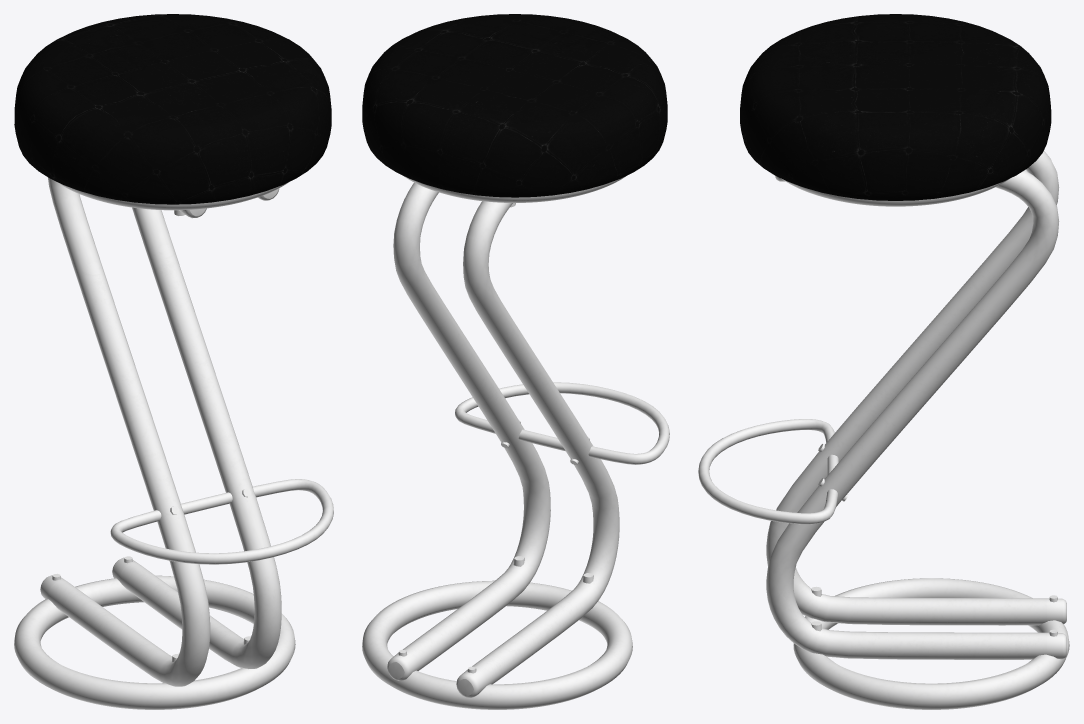
3 views of the same model, side by side, from view 1: azimuth 30°, elevation 25°; view 2: azimuth 150°, elevation 25°; view 3: azimuth 270°, elevation 25° (orthographic). The views are drawn at different scales.
Visible parts, largest first — view 1: Bar_Chair; view 2: Bar_Chair; view 3: Bar_Chair.
Boxes of the visible parts, left/top/right/bottom form: Bar_Chair: left=14, top=14, right=333, bottom=709; Bar_Chair: left=362, top=14, right=669, bottom=709; Bar_Chair: left=698, top=14, right=1069, bottom=709.
Bounding box in the file's own units: 1.58 × 3.31 × 1.89.
Materials: 1 (1 with a texture image).
